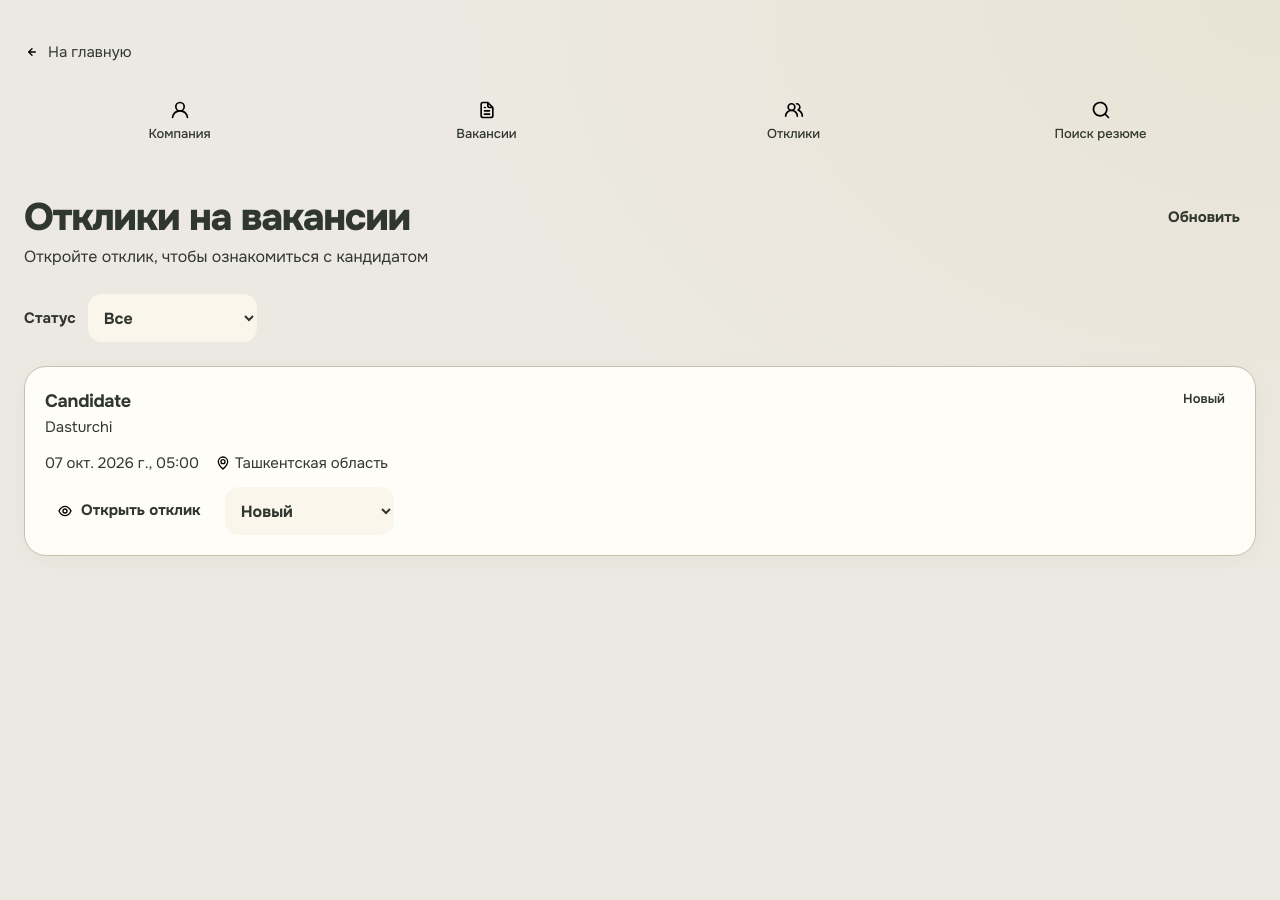
it: employer opens the submitted CV through the application, and closing the candidate removes private details
Click the button "Открыть отклик" at (129, 511), box [45,489,213,533]
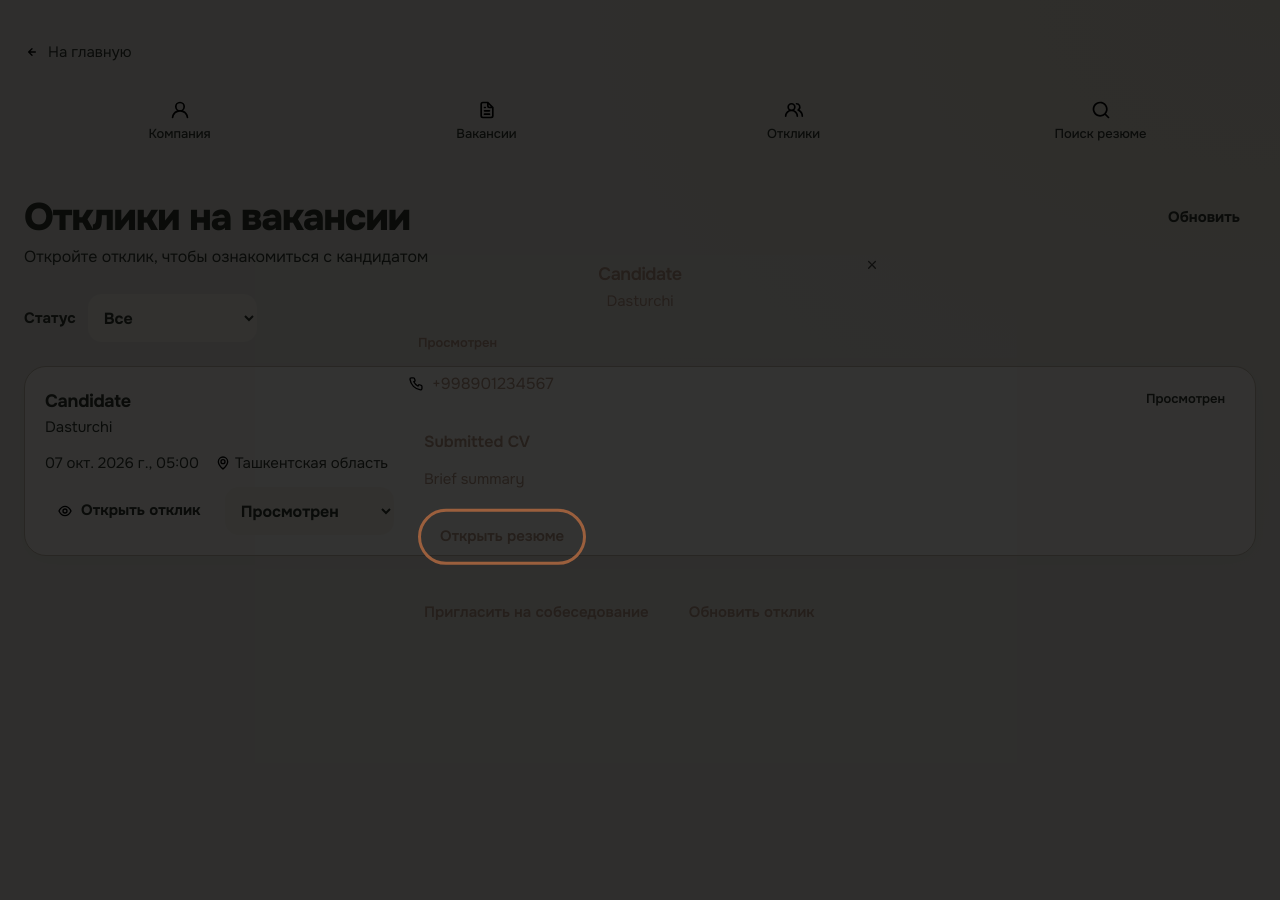
Click the button "Открыть резюме" at (502, 537), box [424,515,580,559]
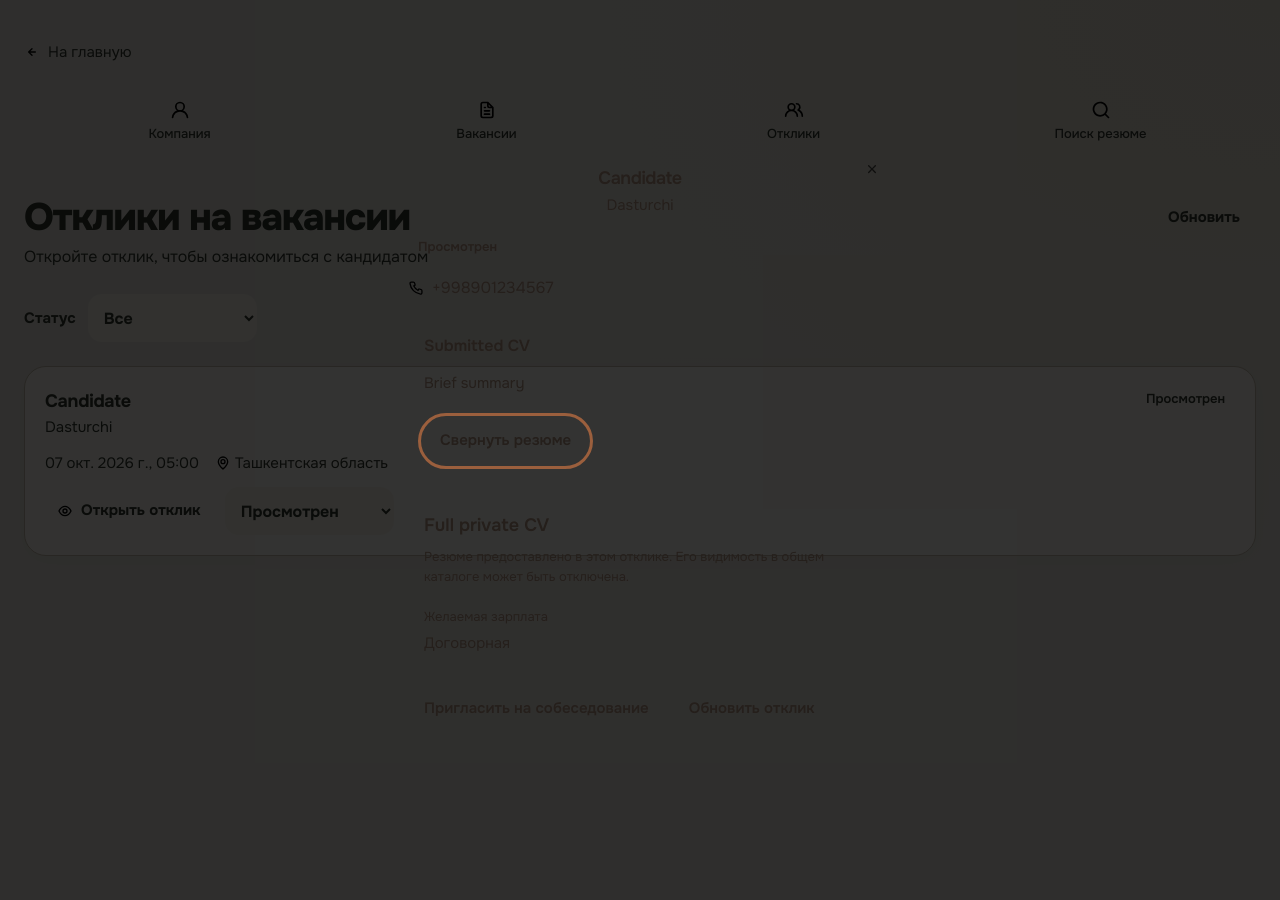
expect the button "Открыть резюме" is gone: met
Click the button named "Close" at (872, 169), box [864,161,880,177]
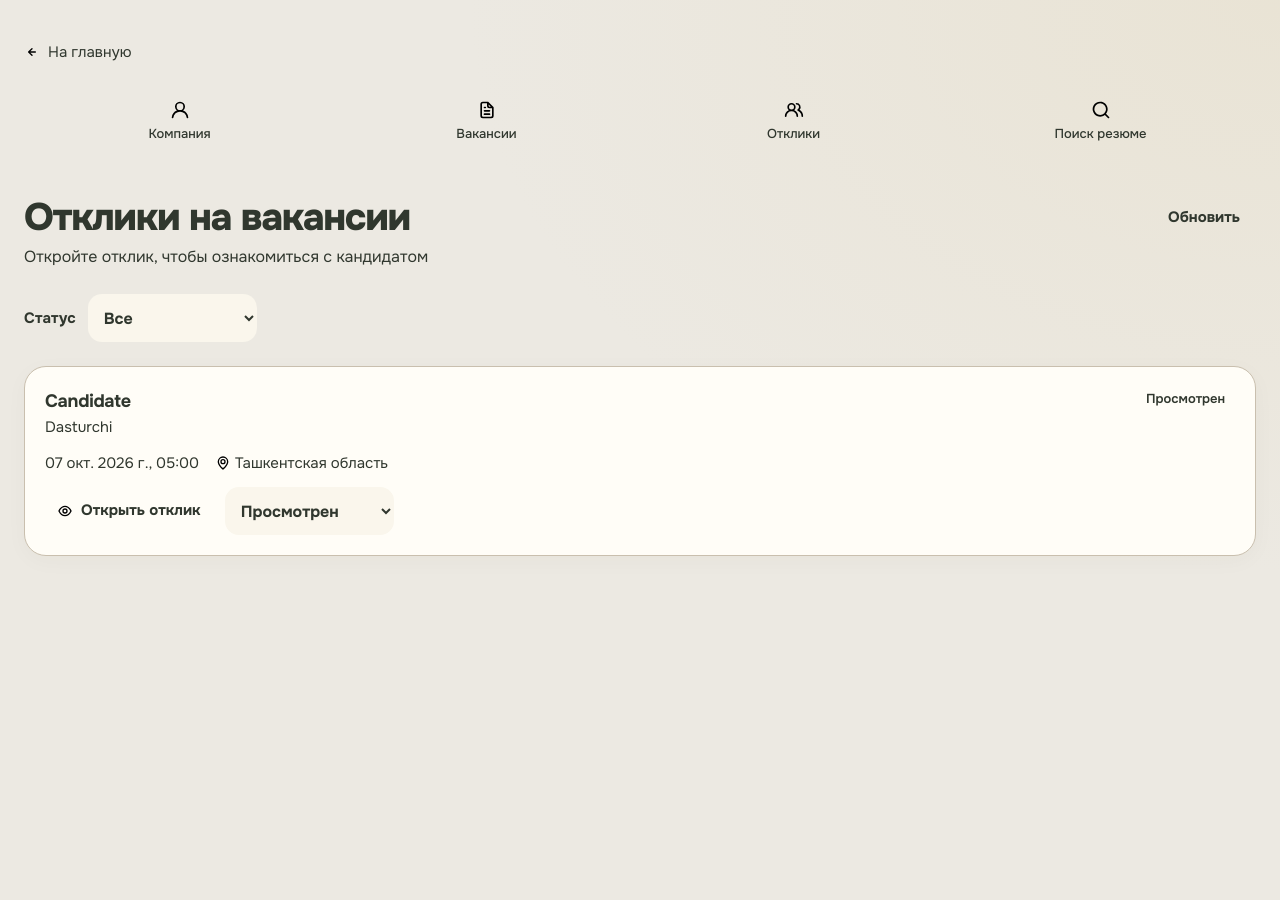
expect the heading "Full private CV" is gone: met
